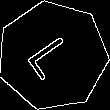L_NE: (23, 29, 83, 83)
